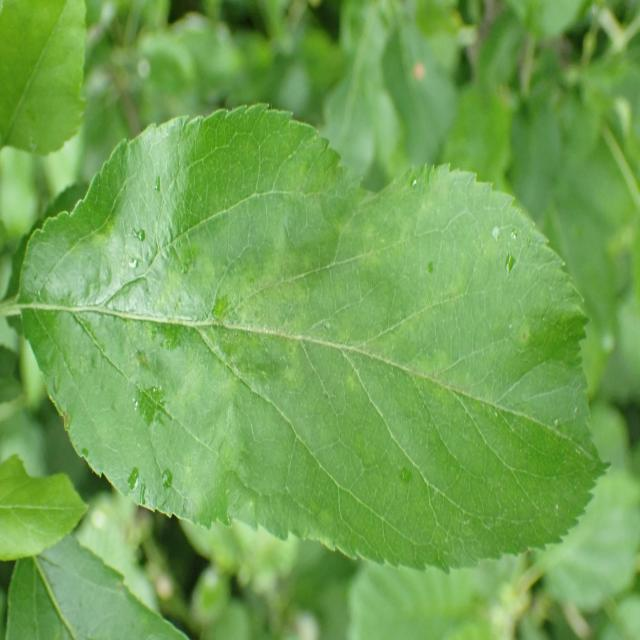scab: (71, 148, 586, 516)
